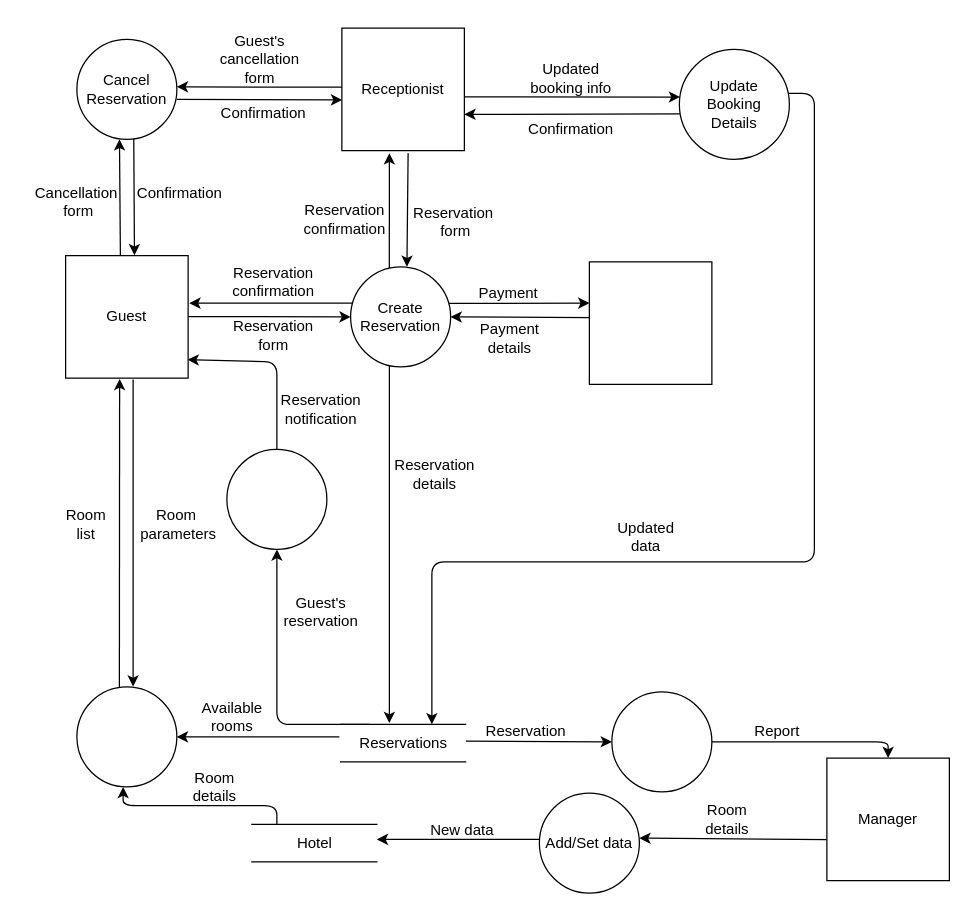
Image size: 971x915. Some labels were removed from this diagram. Here are the shapes that lost their labels. From the top down, the centre of each, then its label:
the point at 650,322: Payment System
the point at 276,498: Send Notification
the point at 126,736: Search Room
the point at 661,741: Generate Report
